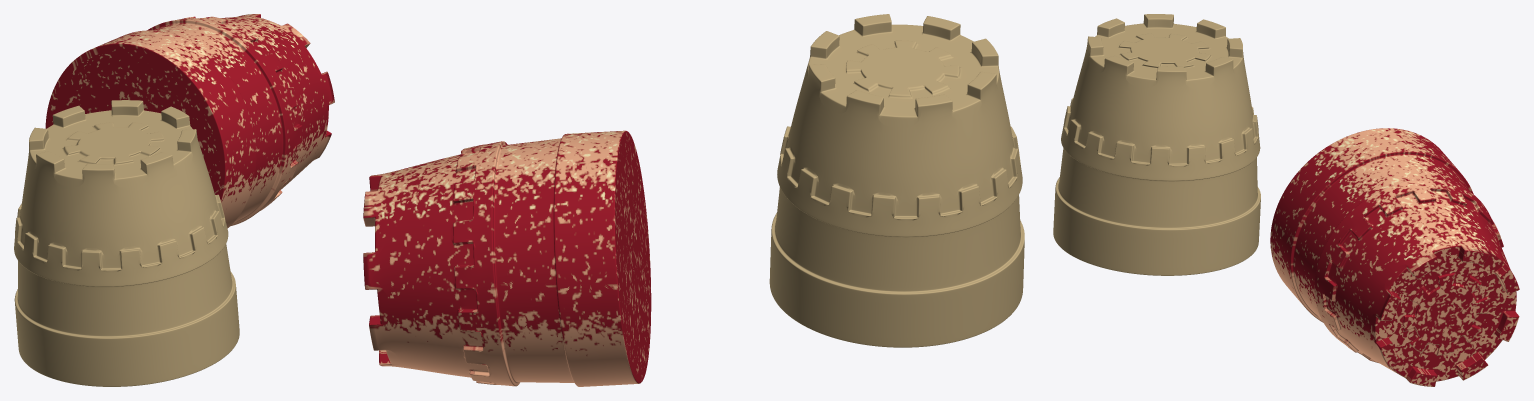
File: Bucket.fbx
The picture shows the model from 3 angles, left to right: view 1: azimuth 30°, elevation 25°; view 2: azimuth 150°, elevation 25°; view 3: azimuth 270°, elevation 25°; orthographic projection. The views are drawn at different scales.
Parts seen in each view (by area): view 1: Cylinder.002, Cylinder.001; view 2: Cylinder.002, Cylinder.001; view 3: Cylinder.002, Cylinder.001.
Part boxes in pixels (x1,y1,x2,y2): Cylinder.002: (14,100,239,386); Cylinder.001: (45,14,334,228); Cylinder.002: (769,14,1024,347); Cylinder.001: (363,130,651,386); Cylinder.002: (1053,14,1260,275); Cylinder.001: (1270,128,1519,386).
Size of the model in its own units: 454 by 244 by 465.
2 materials, 1 textured.
